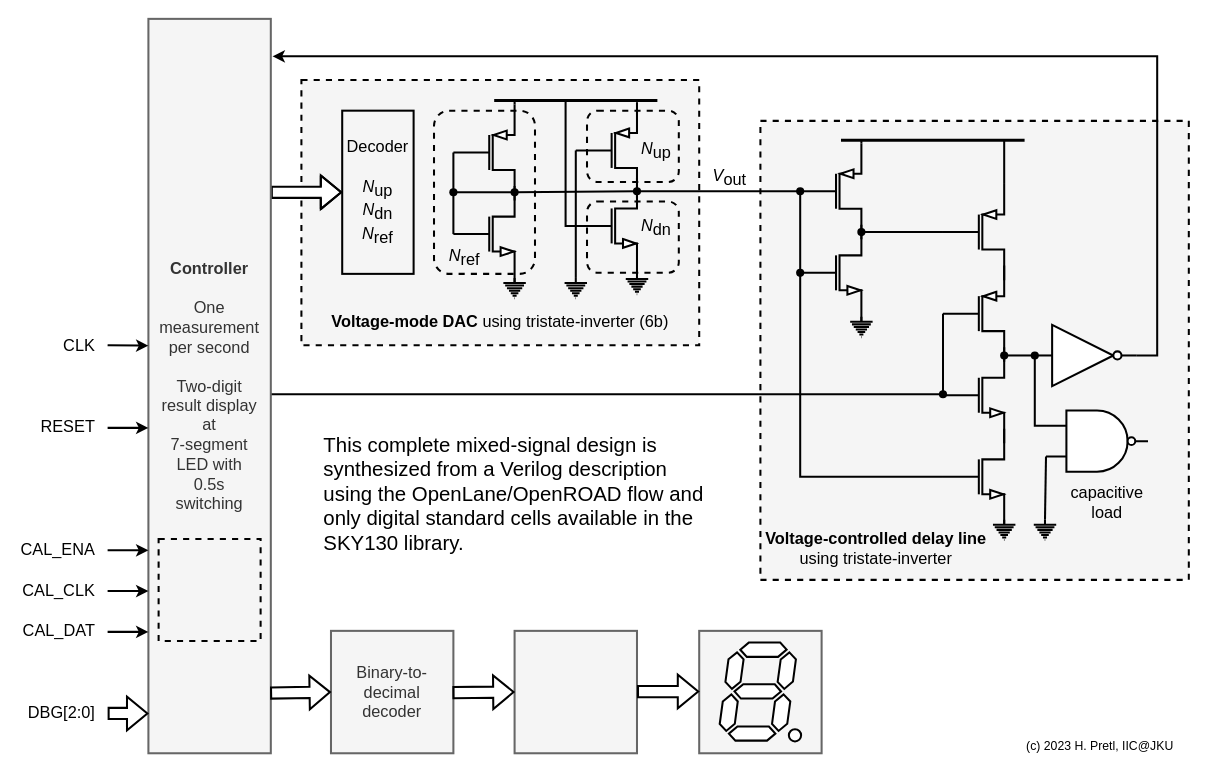
The diagram is 1207 pixels wide and 771 high, and some of its shapes have lost their labels. Here are the shapes that lost their labels. From the top down, the centre of each, then its label:
the point at 209,590: Calibration
the point at 575,691: Decimal-to-7-segment decoder
